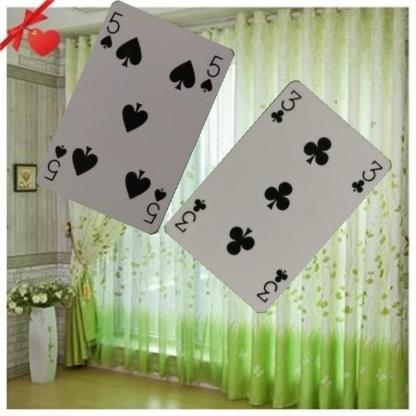3c: (253, 266, 290, 304), (268, 87, 303, 124)
5s: (97, 9, 124, 51), (141, 185, 168, 226)
